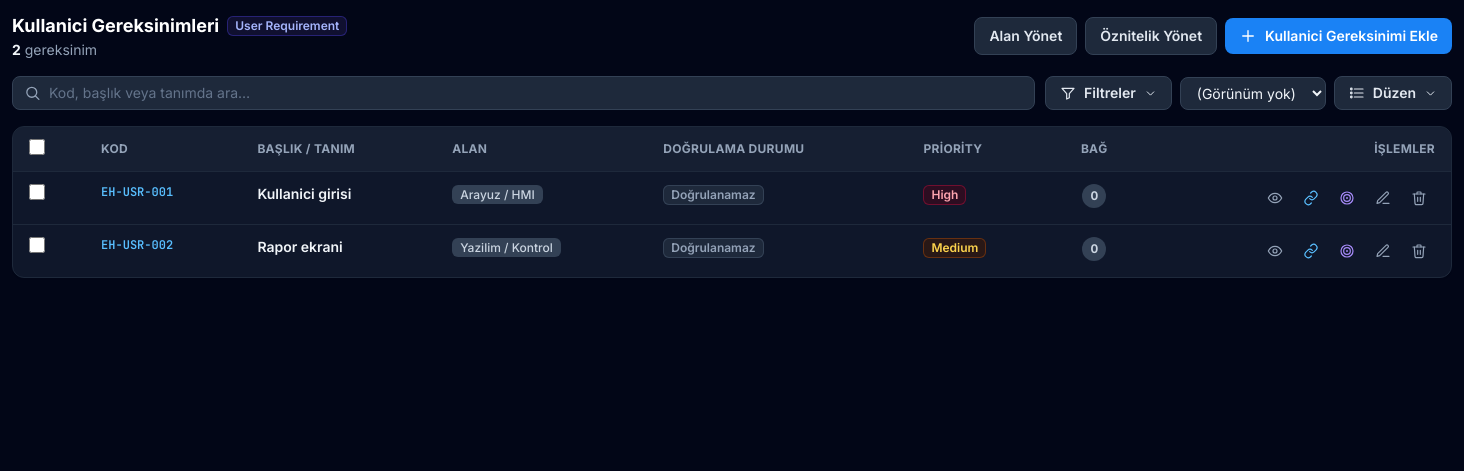
Test: Hierarchy — ortak filtre cubugu › aktif filtre sayisi rozette gosterilir
Click the button with test id "filter-toggle" at (1108, 93), box [1045,76,1172,110]
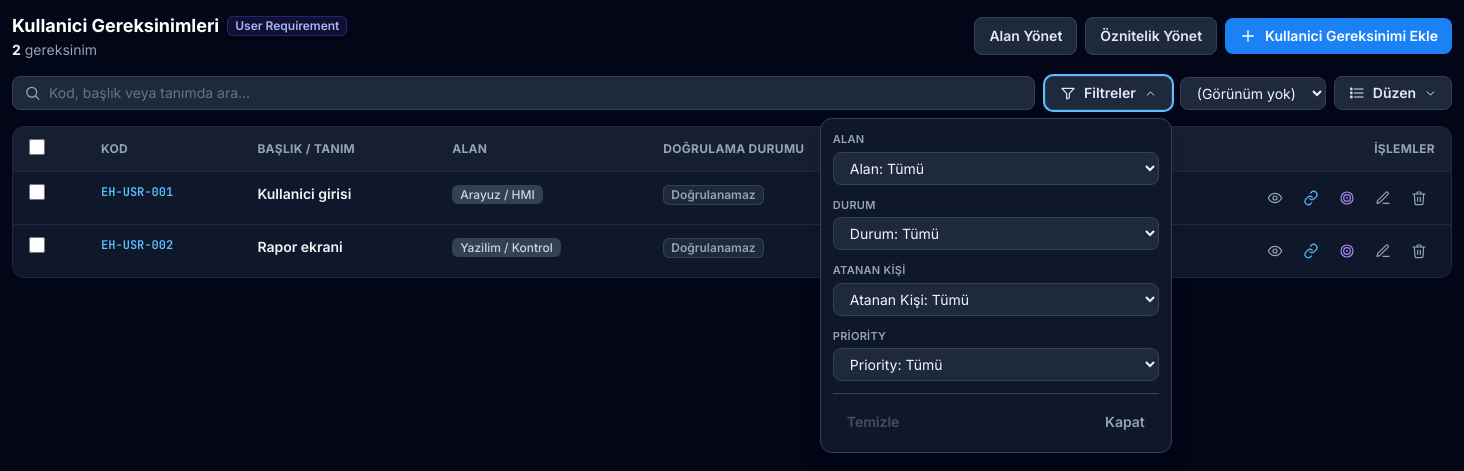
Select "Arayuz / HMI" in the dropdown with test id "filter-field" at (996, 168), box [833,152,1159,184]
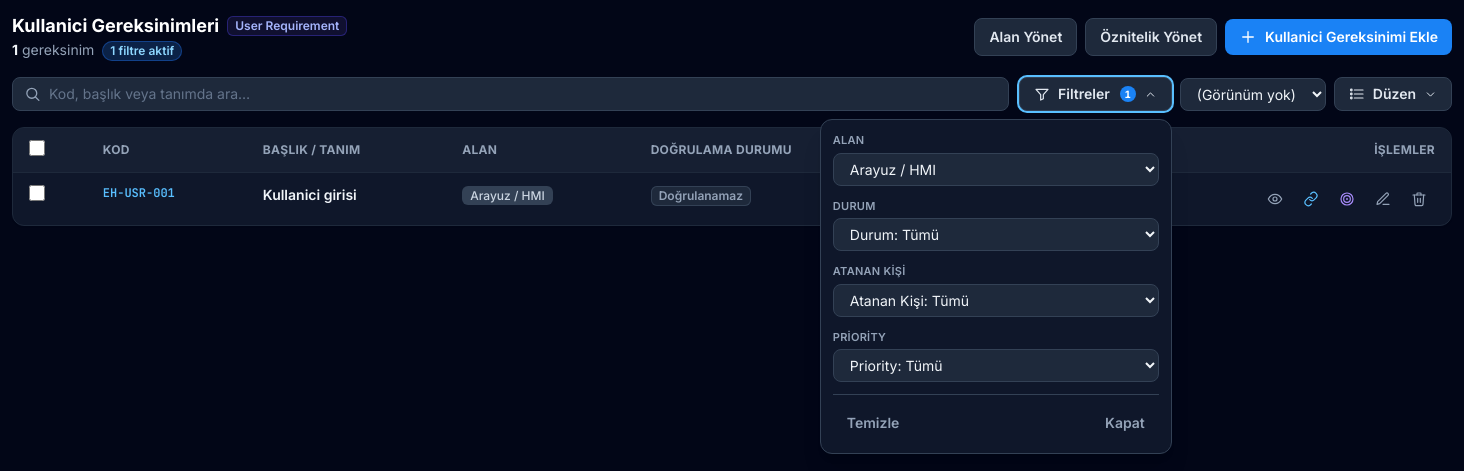
Type "giris" into the field with test id "filter-search" at (511, 94), box [12,77,1009,111]
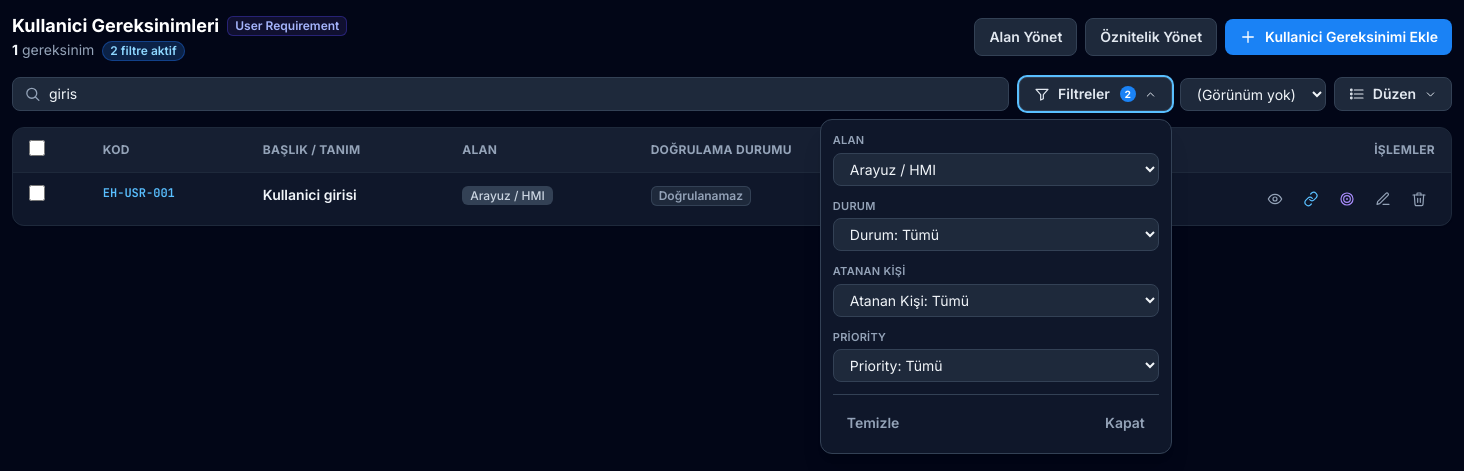
Now the text with test id "filter-active-badge" reads "2 filtre aktif", box [110,43,177,58]
Now the text with test id "filter-toggle-count" reads "2", box [1125,88,1131,100]
